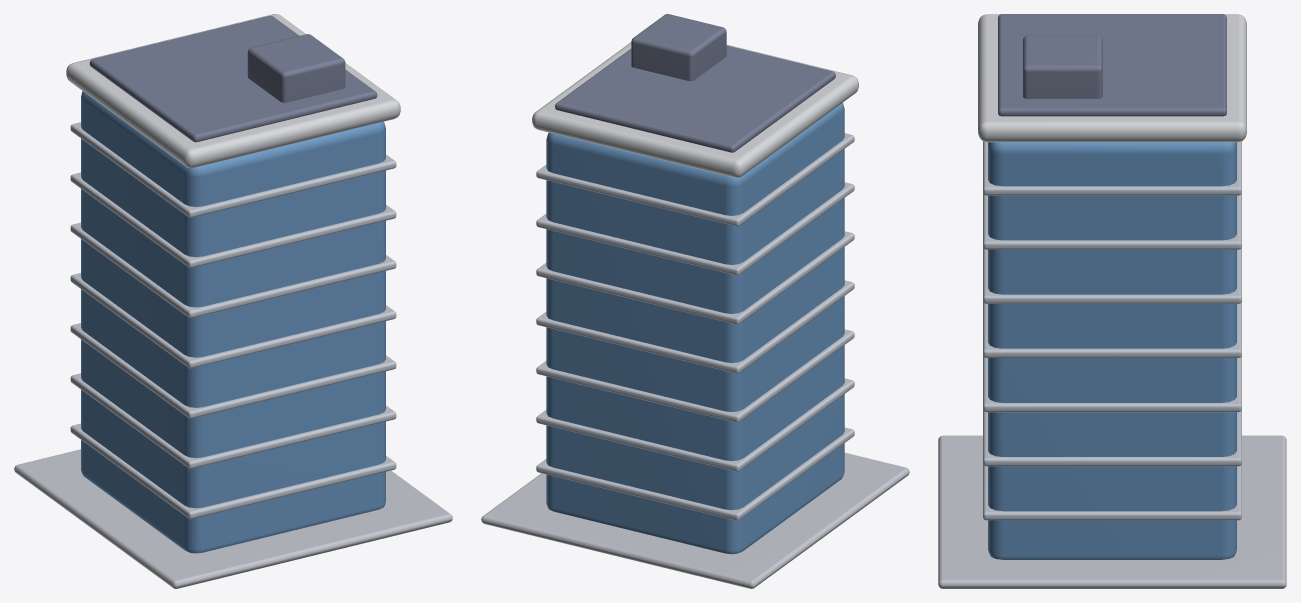
3 views of the same model, side by side, from view 1: azimuth 30°, elevation 25°; view 2: azimuth 150°, elevation 25°; view 3: azimuth 270°, elevation 25° (orthographic). The views are drawn at different scales.
Visible parts, largest first — view 1: Cube; view 2: Cube; view 3: Cube.
Boxes of the visible parts, left/top/right/bottom form: Cube: left=14, top=14, right=452, bottom=588; Cube: left=481, top=14, right=909, bottom=588; Cube: left=938, top=14, right=1286, bottom=588.
Bounding box in the file's own units: 0.7 × 1.08 × 0.7.
